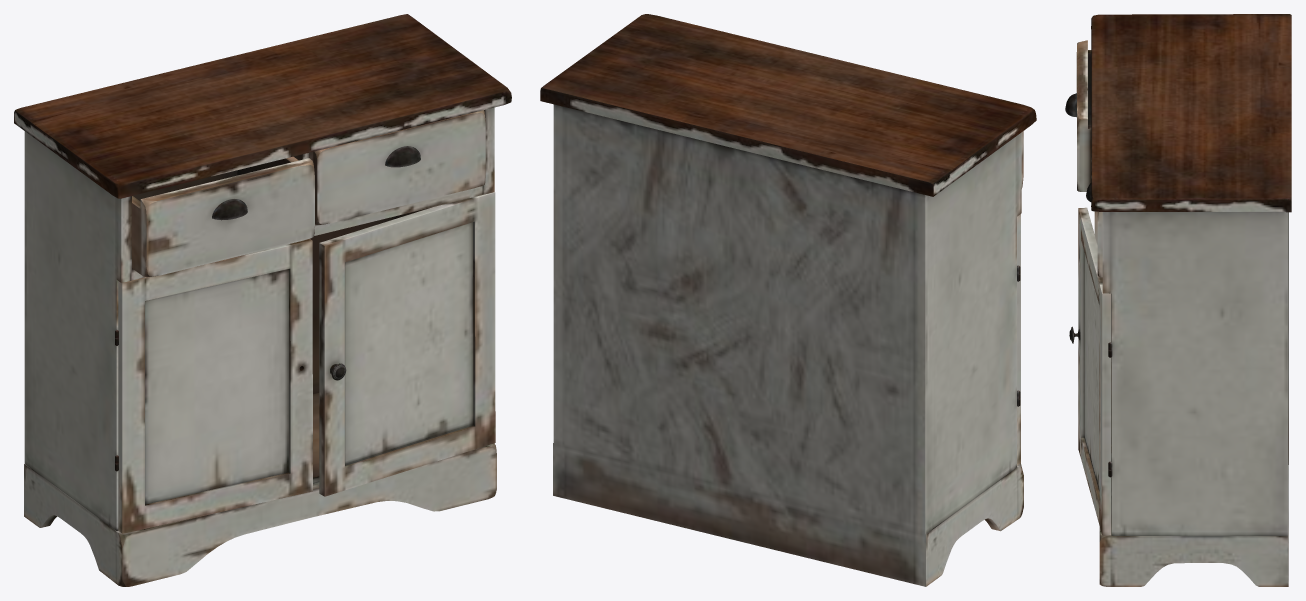
The model's file is painted_wooden_cabinet.glb.
The picture shows the model from 3 angles, left to right: view 1: azimuth 30°, elevation 25°; view 2: azimuth 150°, elevation 25°; view 3: azimuth 270°, elevation 25°; orthographic projection. The views are drawn at different scales.
Visible parts, largest first — view 1: painted_wooden_cabinet, painted_wooden_cabinet_door_01, painted_wooden_cabinet_door_02, painted_wooden_cabinet_drawer_01, painted_wooden_cabinet_drawer_02; view 2: painted_wooden_cabinet, painted_wooden_cabinet_door_01; view 3: painted_wooden_cabinet, painted_wooden_cabinet_door_02, painted_wooden_cabinet_drawer_01, painted_wooden_cabinet_drawer_02.
Boxes of the visible parts, x1,y1,x2,y2 form: painted_wooden_cabinet: (14, 14, 511, 586); painted_wooden_cabinet_door_01: (118, 238, 312, 533); painted_wooden_cabinet_door_02: (319, 192, 495, 496); painted_wooden_cabinet_drawer_01: (132, 156, 314, 277); painted_wooden_cabinet_drawer_02: (313, 110, 485, 224); painted_wooden_cabinet: (540, 14, 1036, 586); painted_wooden_cabinet_door_01: (1017, 214, 1020, 465); painted_wooden_cabinet: (1091, 14, 1291, 586); painted_wooden_cabinet_door_02: (1069, 207, 1110, 535); painted_wooden_cabinet_drawer_01: (1065, 40, 1091, 191); painted_wooden_cabinet_drawer_02: (1086, 183, 1102, 277).
Bounding box in the file's own units: 1.19 × 1.18 × 0.6167.
1 material, 1 textured.
